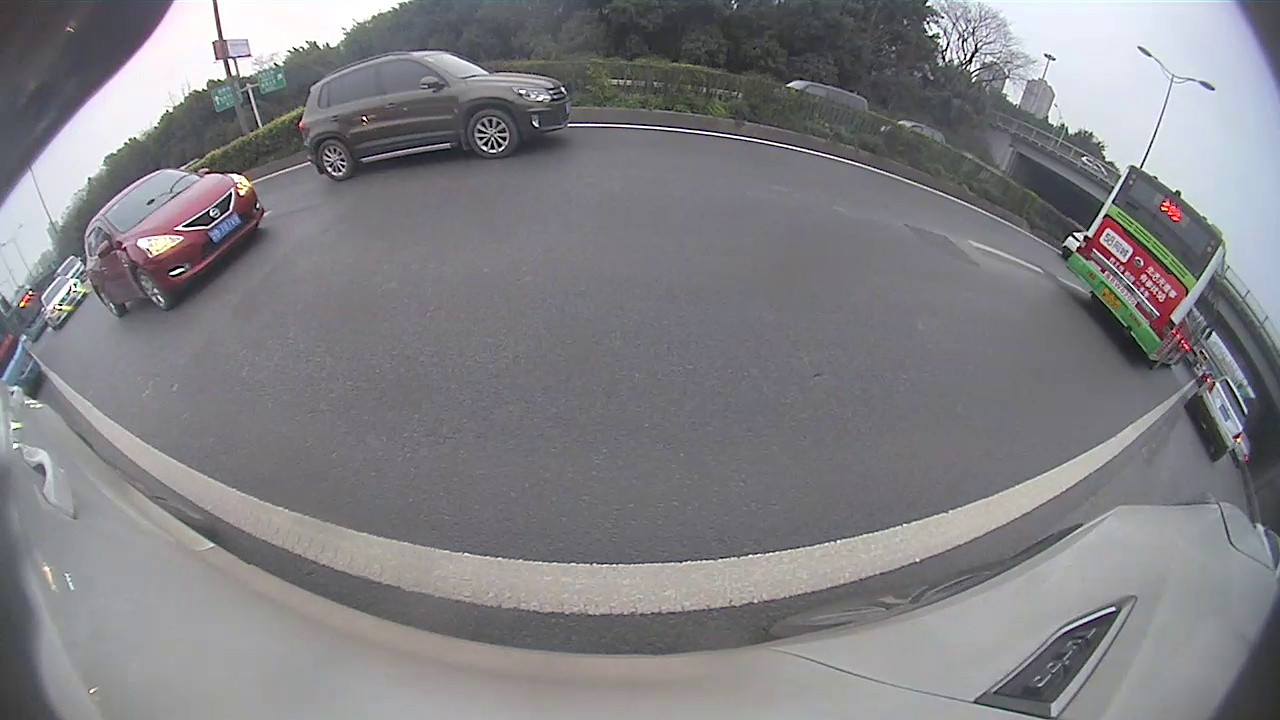bus: (1065, 164, 1222, 371)
car: (299, 50, 572, 182), (85, 167, 267, 319), (1186, 377, 1243, 462)
front: (464, 107, 521, 159), (135, 266, 172, 311)
rear: (317, 138, 356, 180), (96, 286, 121, 318)
